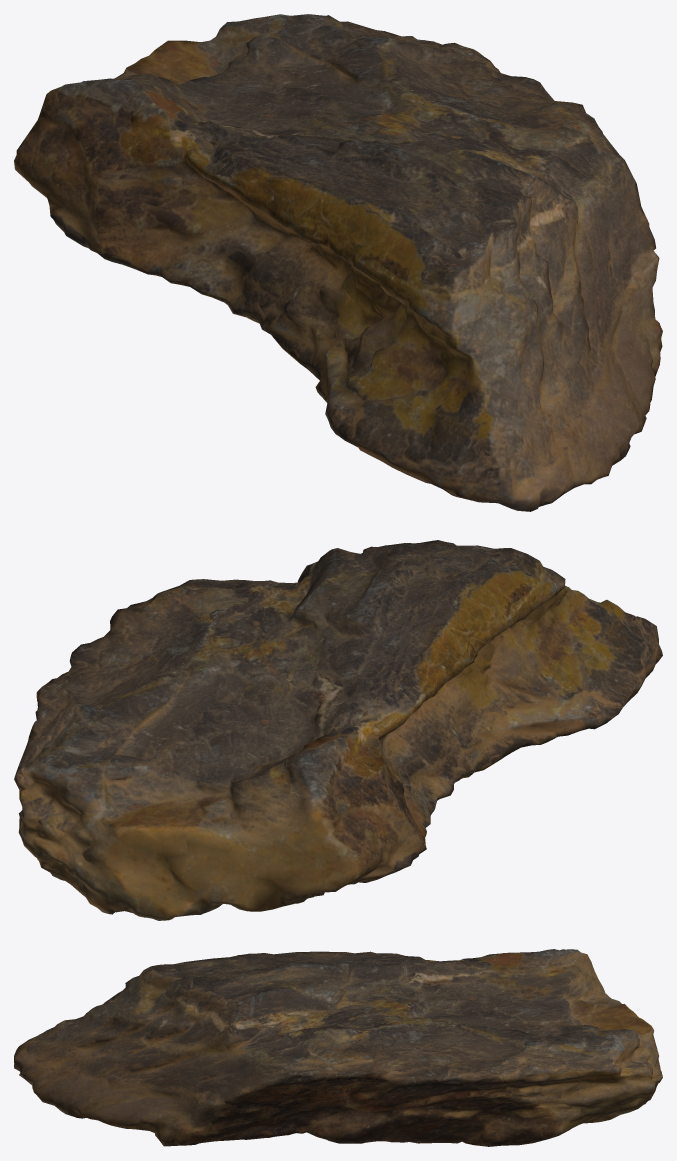
File: rock_09.glb
3 views of the same model, one above another, from view 1: azimuth 30°, elevation 25°; view 2: azimuth 150°, elevation 25°; view 3: azimuth 270°, elevation 25° (orthographic). The views are drawn at different scales.
Parts seen in each view (by area): view 1: rock_09_LOD0; view 2: rock_09_LOD0; view 3: rock_09_LOD0.
Boxes of the visible parts, x1,y1,x2,y2 form: rock_09_LOD0: [14, 14, 662, 511]; rock_09_LOD0: [14, 540, 662, 920]; rock_09_LOD0: [14, 949, 662, 1146].
Bounding box in the file's own units: 0.1279 × 0.0568 × 0.25.
Materials: 1 (1 with a texture image).
